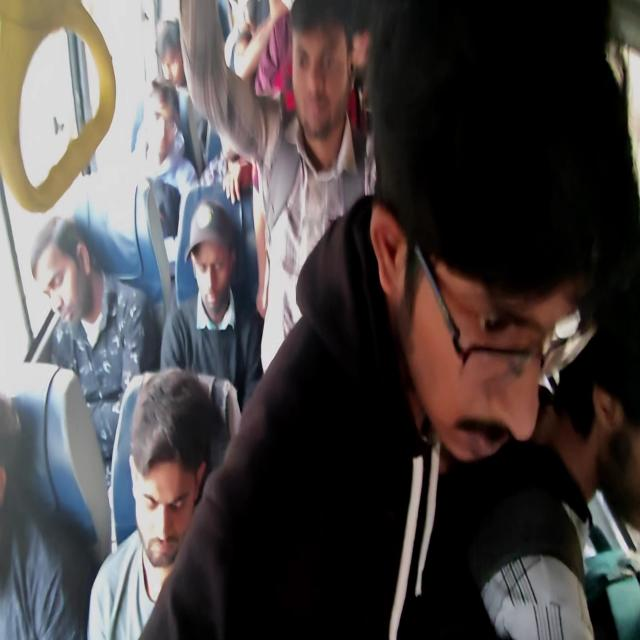person: (403, 102, 589, 476), (182, 214, 300, 395), (574, 269, 640, 536), (0, 404, 51, 638), (133, 384, 204, 550), (294, 31, 364, 185), (32, 229, 104, 323), (133, 91, 173, 166), (201, 124, 244, 192), (231, 13, 260, 102), (157, 24, 182, 86)
